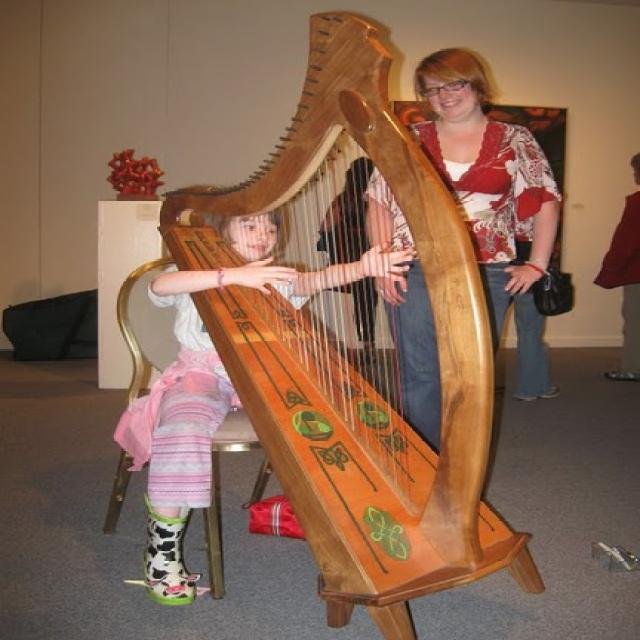harp: (156, 9, 547, 629)
